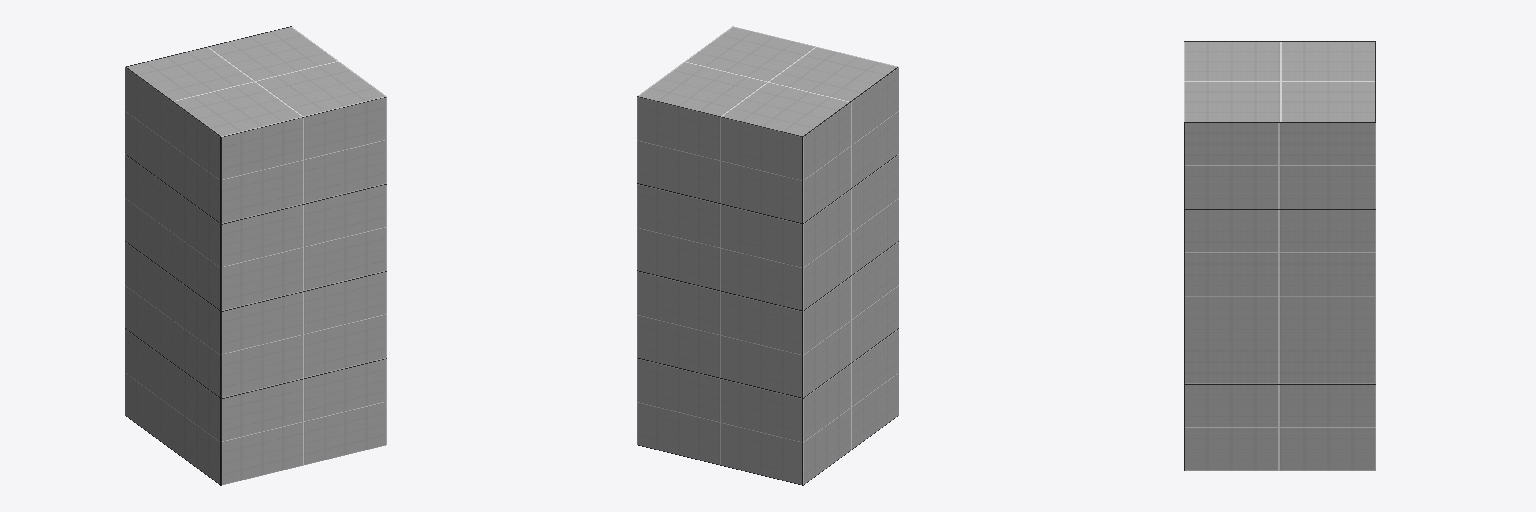
3 views of the same model, side by side, from view 1: azimuth 30°, elevation 25°; view 2: azimuth 150°, elevation 25°; view 3: azimuth 270°, elevation 25° (orthographic).
Parts seen in each view (by area): view 1: Cube; view 2: Cube; view 3: Cube.
Part boxes in pixels (left/top/right/bottom): Cube: left=125, top=26, right=386, bottom=485; Cube: left=637, top=26, right=898, bottom=485; Cube: left=1184, top=41, right=1375, bottom=470.
Bounding box in the file's own units: 8 × 16 × 8.
Materials: 1 (1 with a texture image).